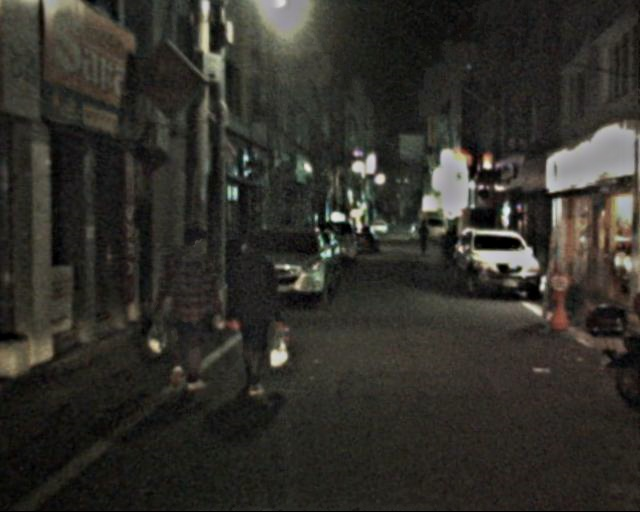person: (156, 224, 225, 391), (220, 232, 286, 398), (417, 220, 435, 256)
